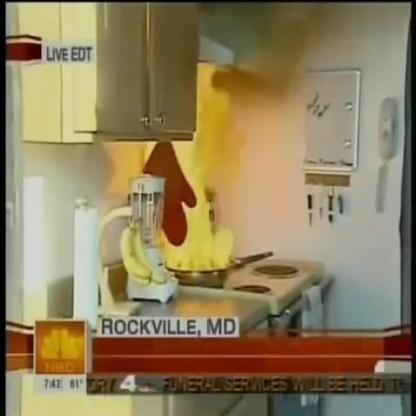fire: (155, 62, 239, 270)
